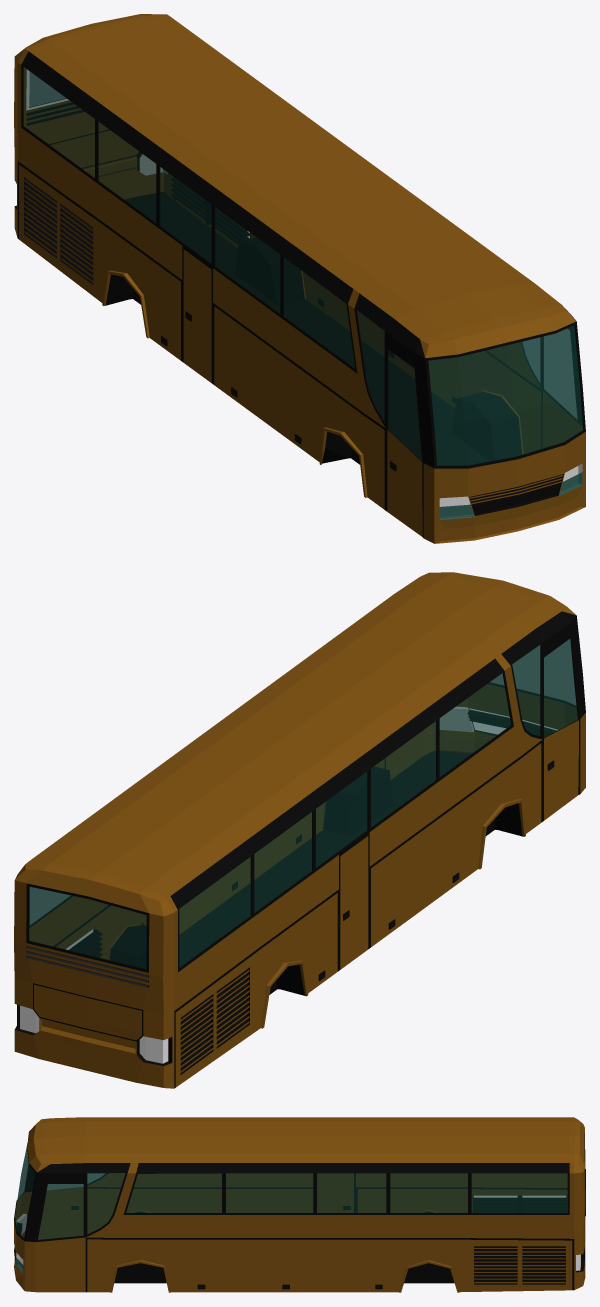
Rendered from Coach_02.FBX.
The picture shows the model from 3 angles, top to bottom: view 1: azimuth 30°, elevation 25°; view 2: azimuth 150°, elevation 25°; view 3: azimuth 270°, elevation 25°; orthographic projection. The views are drawn at different scales.
Parts seen in each view (by area): view 1: Coach_02; view 2: Coach_02; view 3: Coach_02.
Part boxes in pixels (x1,y1,x2,y2): Coach_02: [14, 14, 585, 543]; Coach_02: [14, 572, 585, 1088]; Coach_02: [14, 1117, 585, 1292].
Size of the model in its own units: 33.55 by 38.38 by 152.
